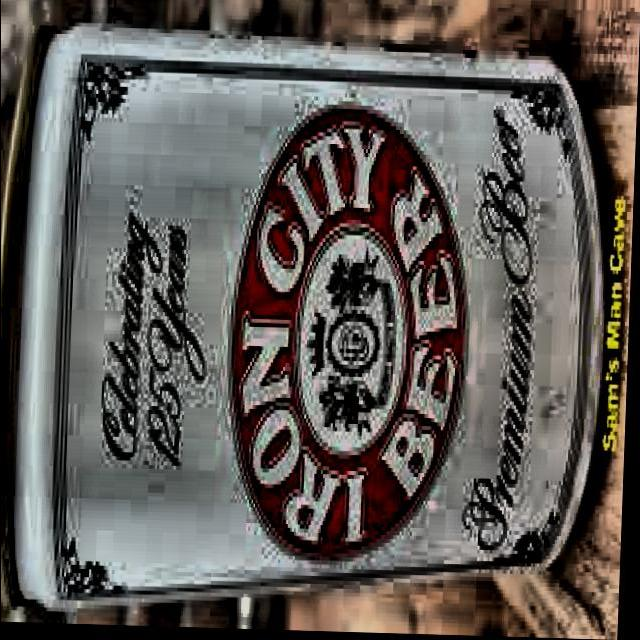litter: (0, 0, 626, 640)
